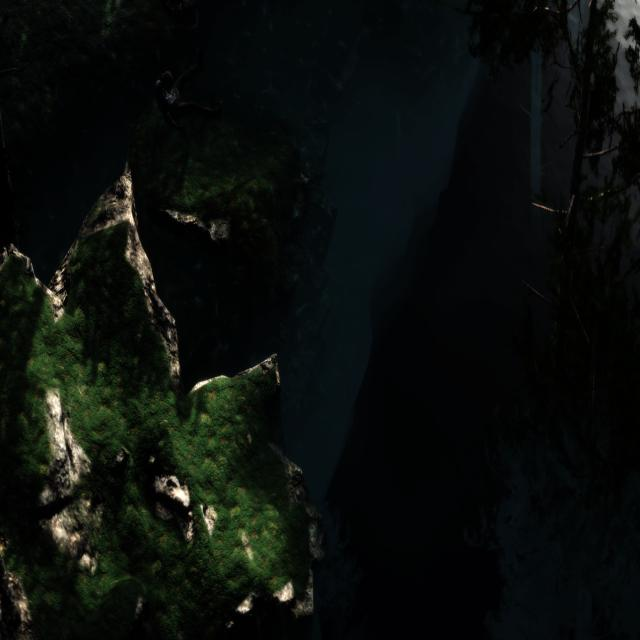Human: (149, 41, 225, 137)
